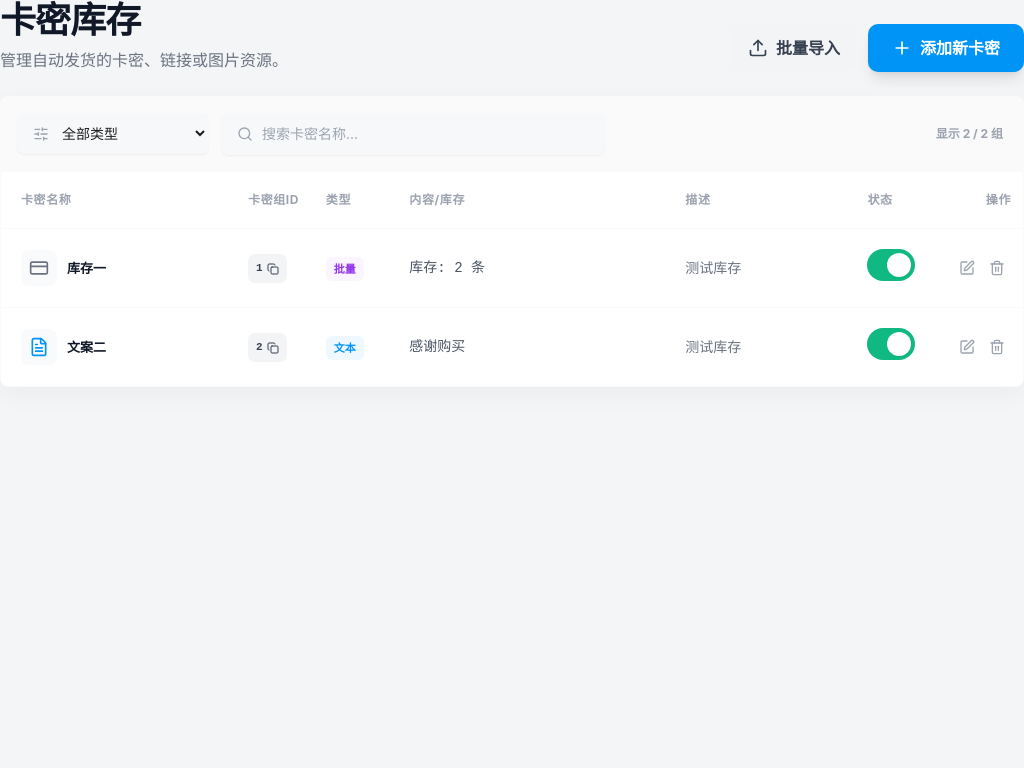
Test: CardList 页面组合行为 › API 测试外部失败且缺少响应字段时仍展示诊断
Click the button "添加新卡密" at (946, 48), box [868, 24, 1023, 72]
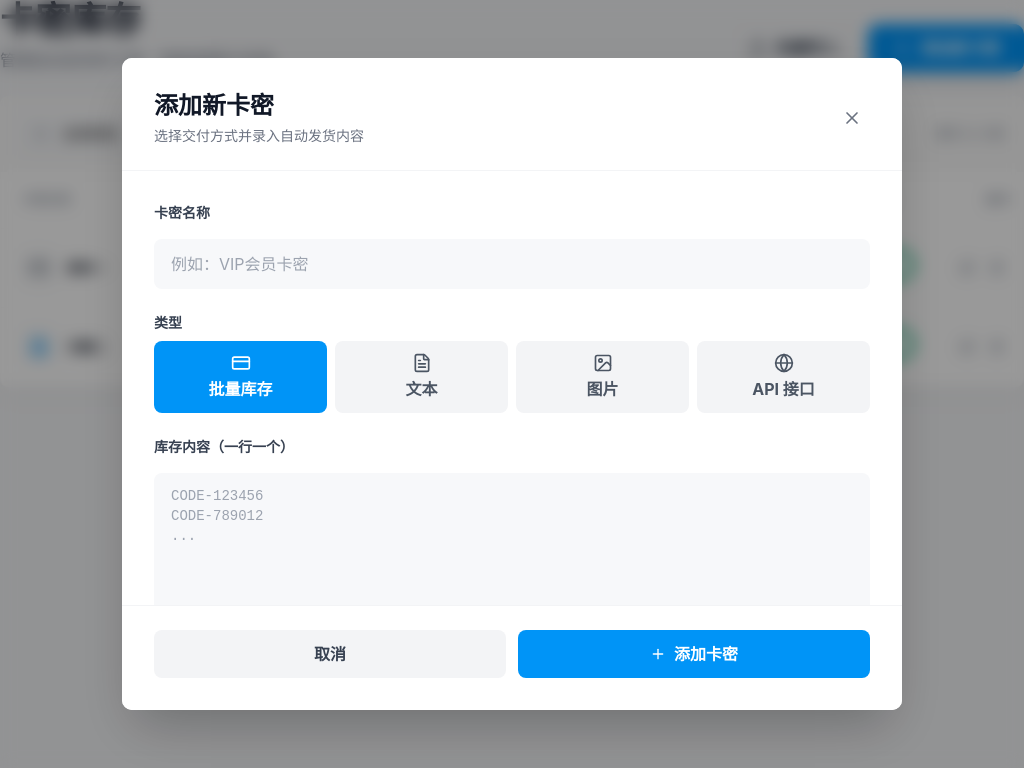
Click the button "API 接口" at (784, 377), box [697, 341, 870, 413]
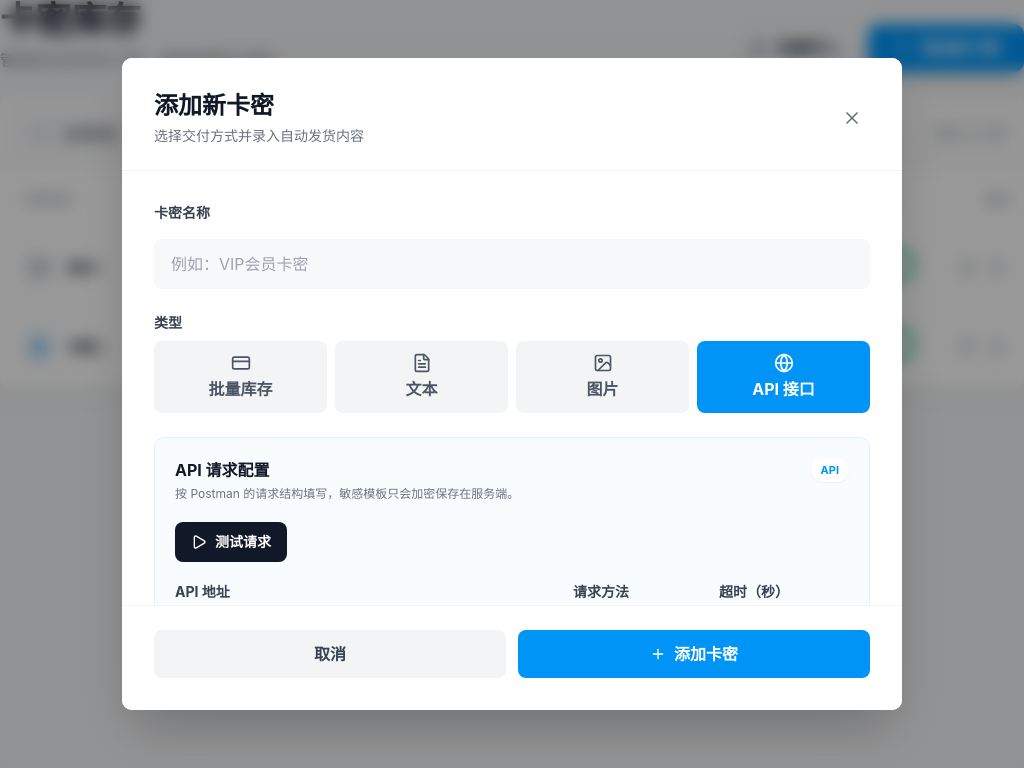
Click the button "测试请求" at (231, 542), box [175, 522, 287, 562]
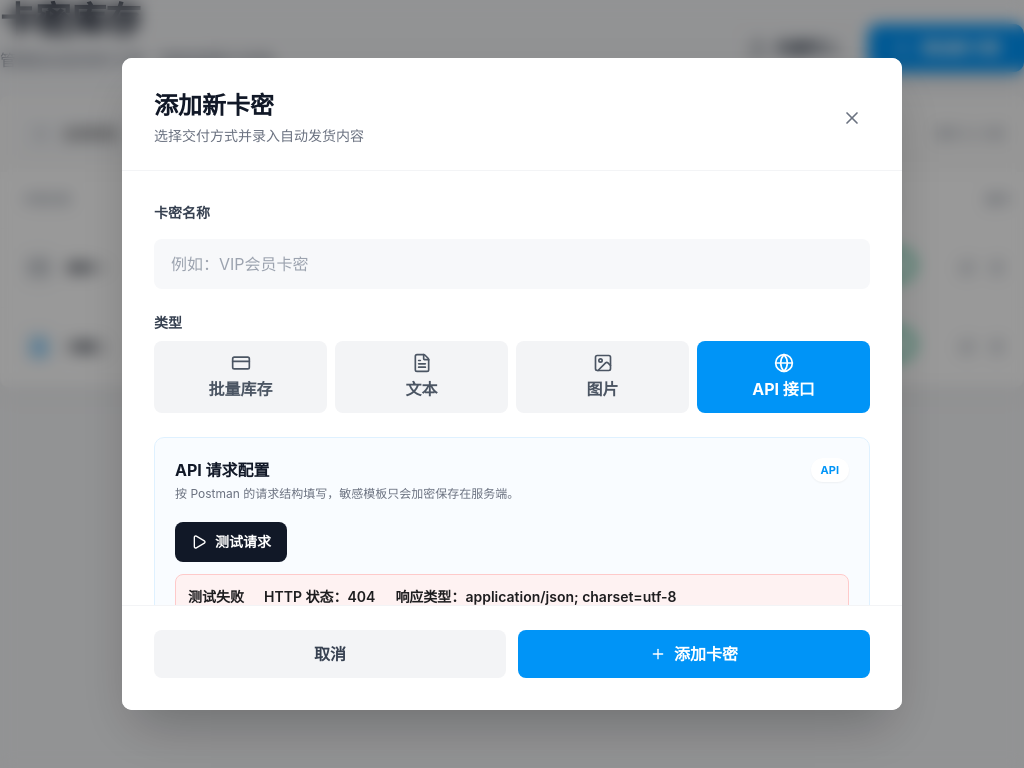
expect the text "HTTP 状态：404" is shown: met, box [264, 587, 375, 605]
expect the text "测试失败" is shown: met, box [188, 587, 244, 605]
